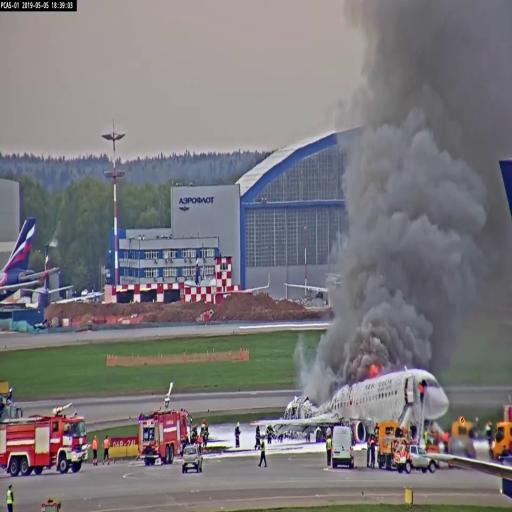smoke: (329, 6, 497, 364)
